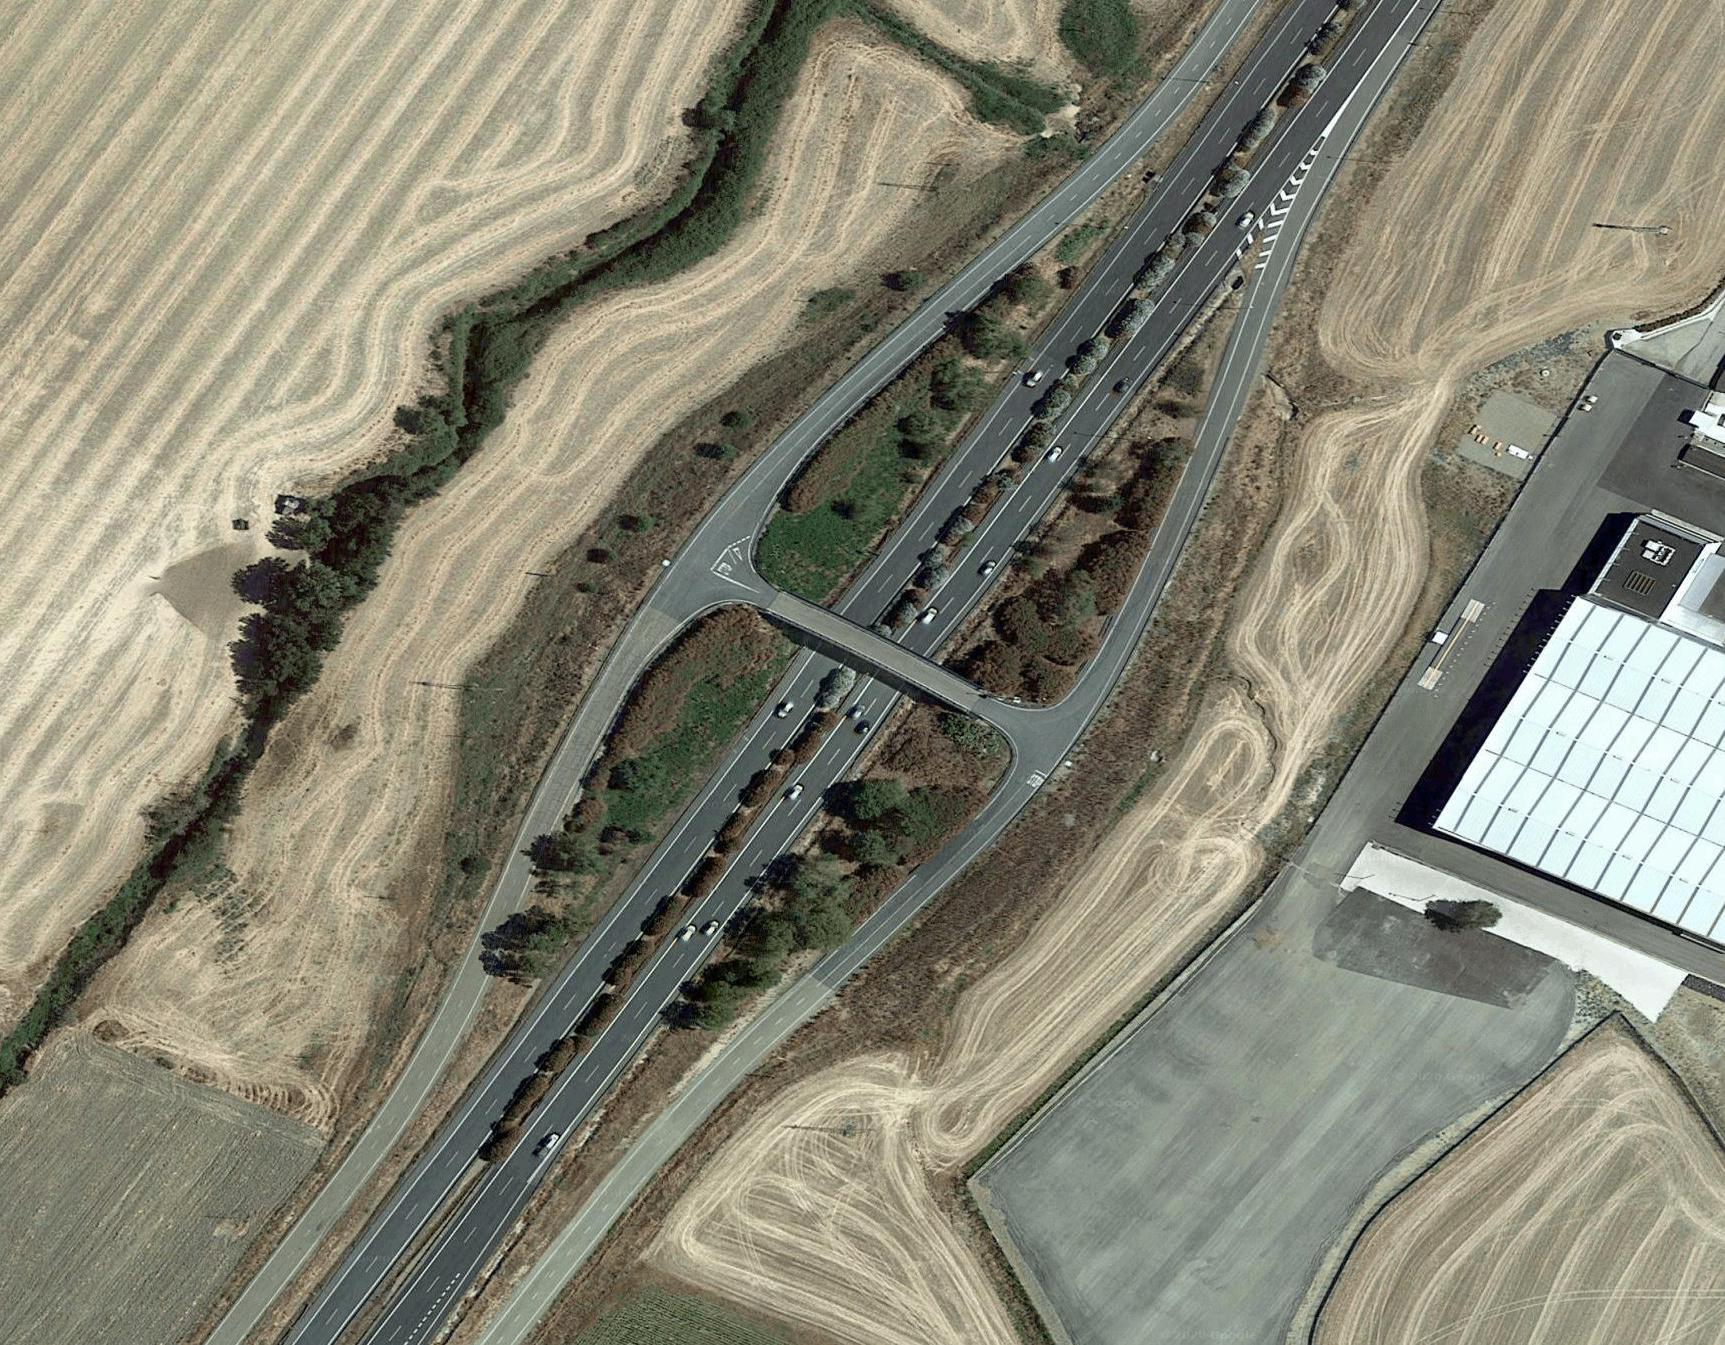bridge: (785, 600, 933, 691)
small-vehicle: (977, 558, 998, 577), (777, 701, 795, 719), (785, 787, 801, 802)
